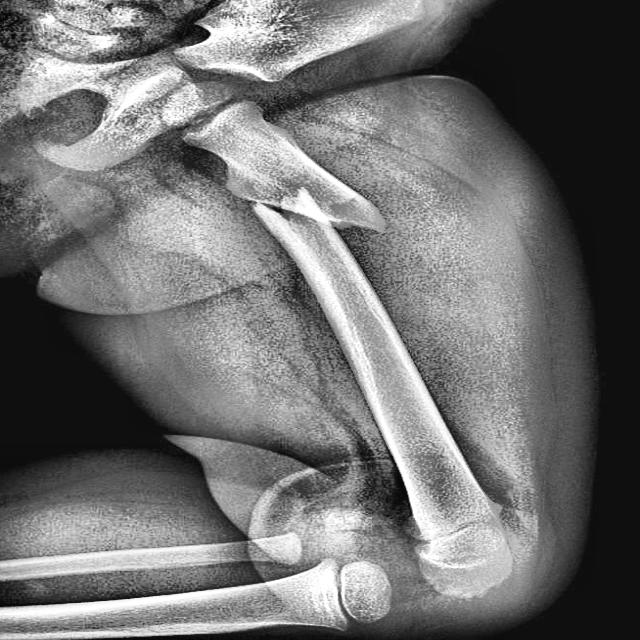messed_up_angle: (246, 187, 390, 232)
